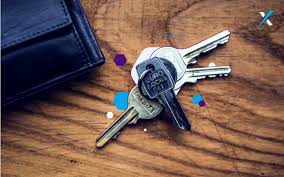kicharina: (133, 55, 195, 133)
